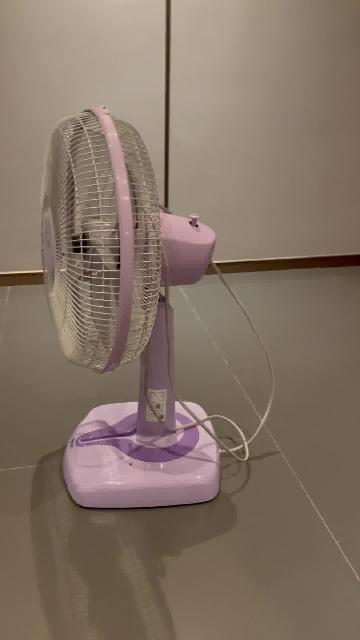Fan: (40, 106, 221, 511)
